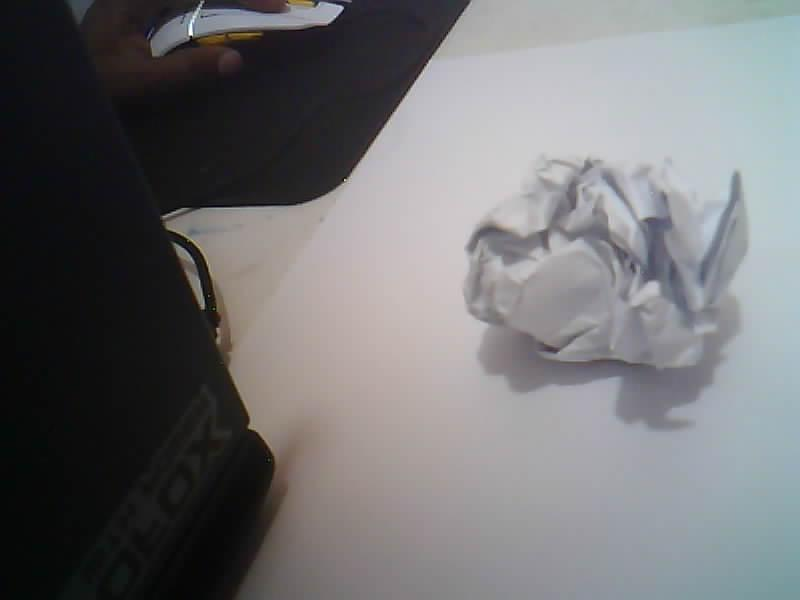biodegradable: (464, 157, 747, 367)
